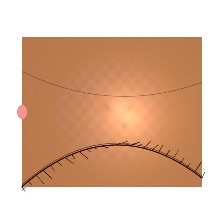pterygium_lesion: (170, 100, 200, 124)
